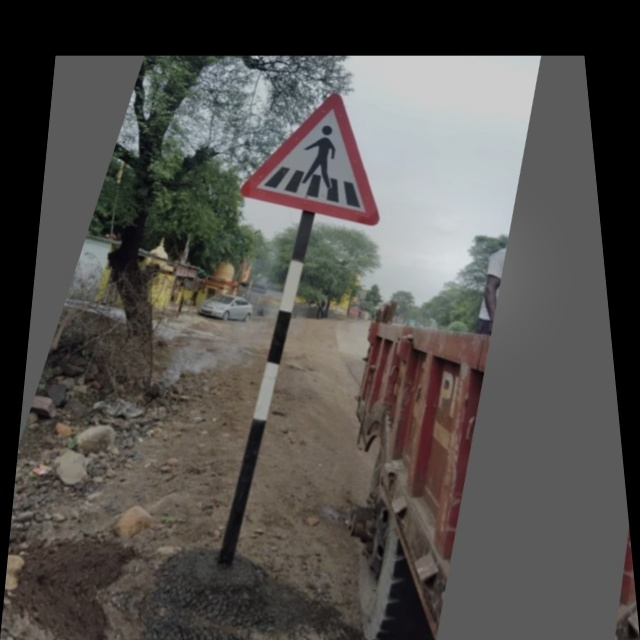Pedestrian_Crossing: (240, 71, 415, 230)
